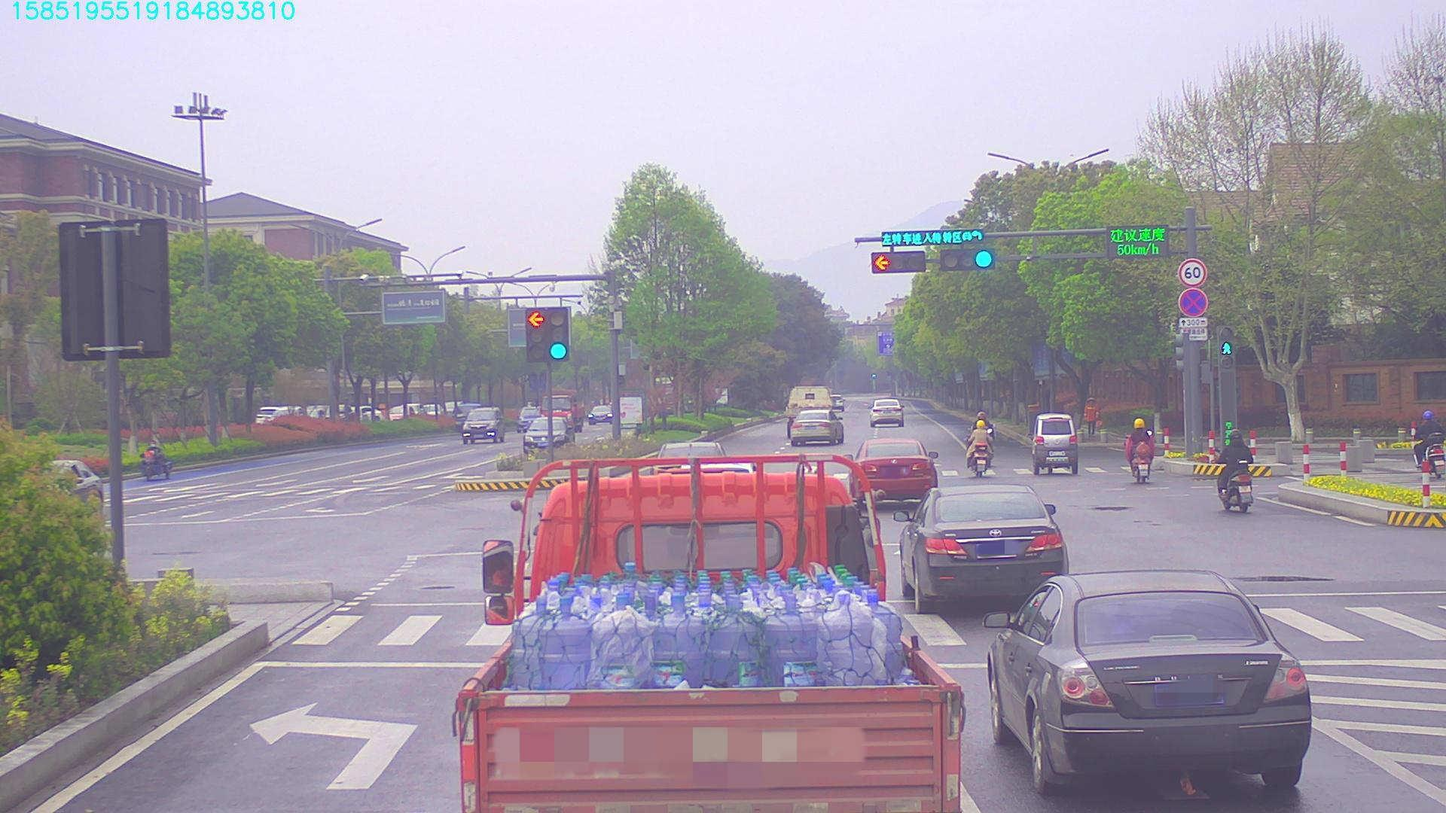green: (941, 244, 990, 269)
red: (870, 253, 930, 273)
wait_on: (880, 229, 988, 246)
